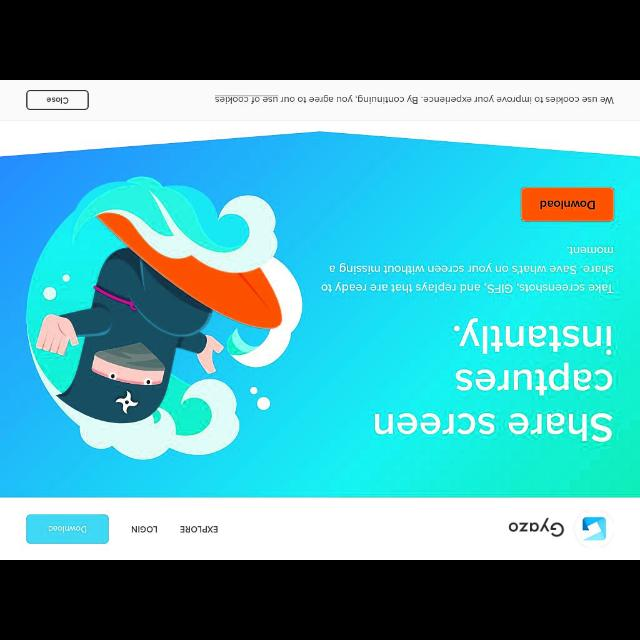image: (26, 172, 304, 460), (573, 510, 615, 548)
text: (372, 322, 612, 444), (320, 244, 614, 294), (214, 92, 614, 106), (508, 516, 564, 538), (539, 200, 595, 210), (180, 522, 218, 536), (47, 524, 87, 534), (130, 524, 158, 534), (46, 97, 70, 105)
textbutton: (521, 187, 613, 221), (27, 516, 108, 542), (27, 91, 89, 111)
toolbar: (1, 499, 639, 559)
